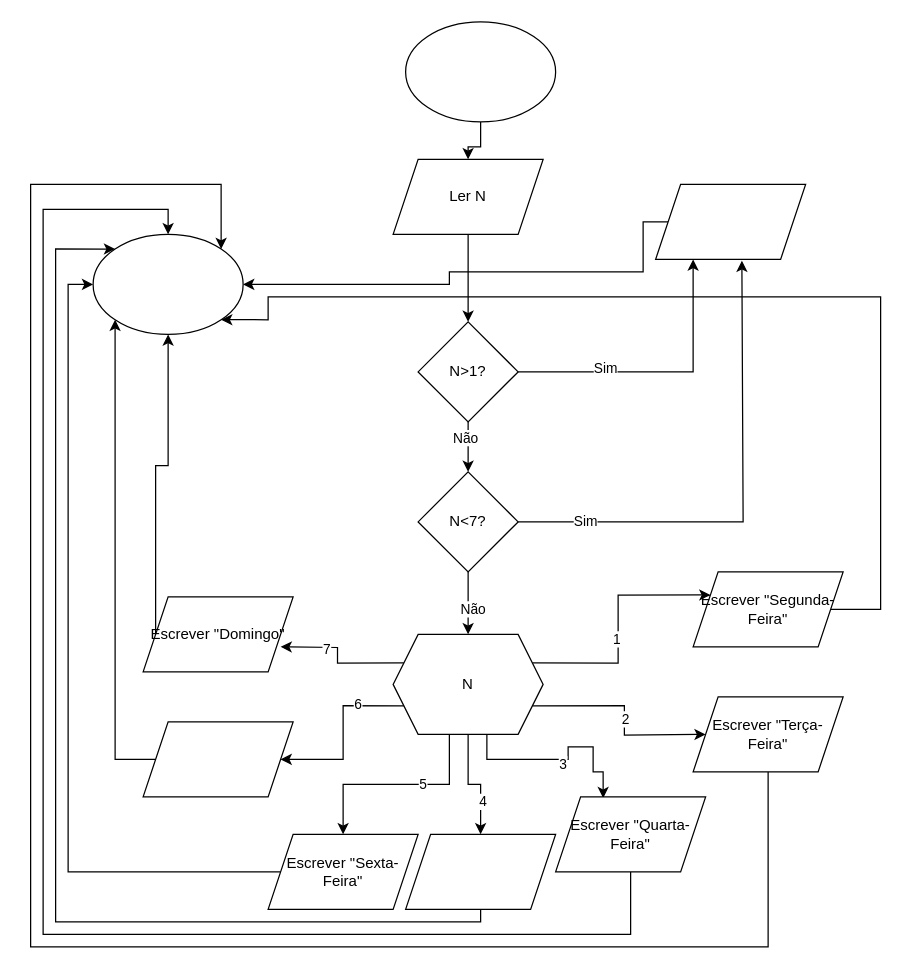
Image size: 913x979. Some labels were removed from this diagram. The shapes that lost their labels are listed below. From the top down, each one's centre as x and y in pixels, then its label:
point 480,71: Início
point 730,221: Escrever: "Erro"
point 167,283: Fim
point 217,759: Escrever "Sábado"
point 480,871: Escrever "Quinta-Feira"
